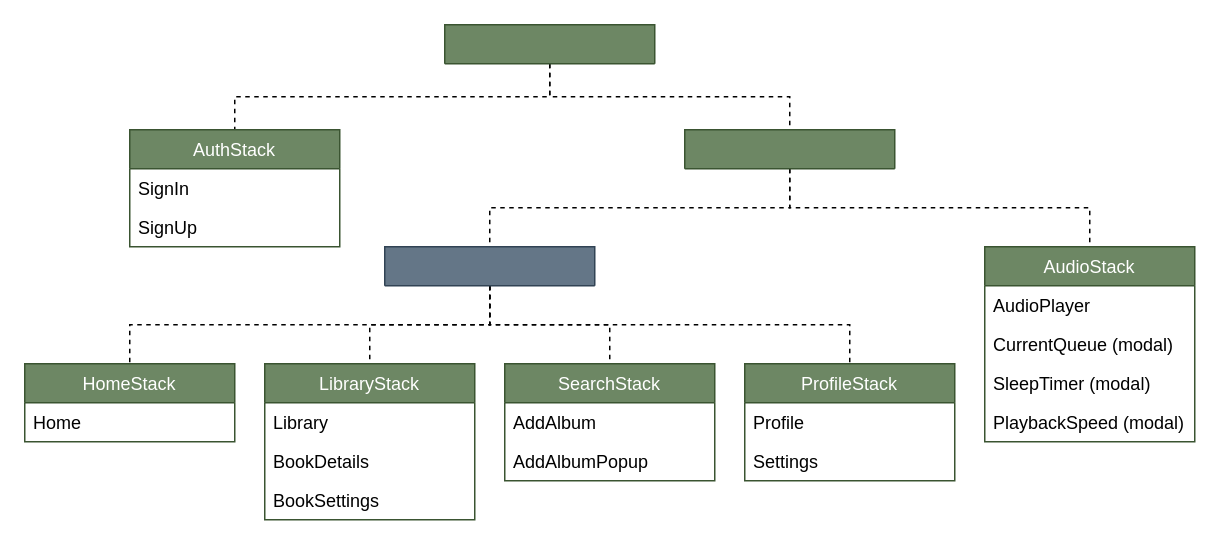
The diagram is 1220 pixels wide and 545 high, and some of its shapes have lost their labels. The centre of each missing label's shape, as x and y in pixels:
AppStack (root): point 549,43
MainStack: point 789,148
MainTabs: point 489,265
